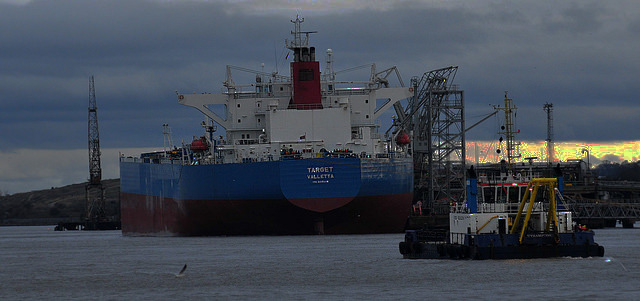tanker: (118, 19, 411, 236)
tug_boat: (400, 115, 601, 253)
